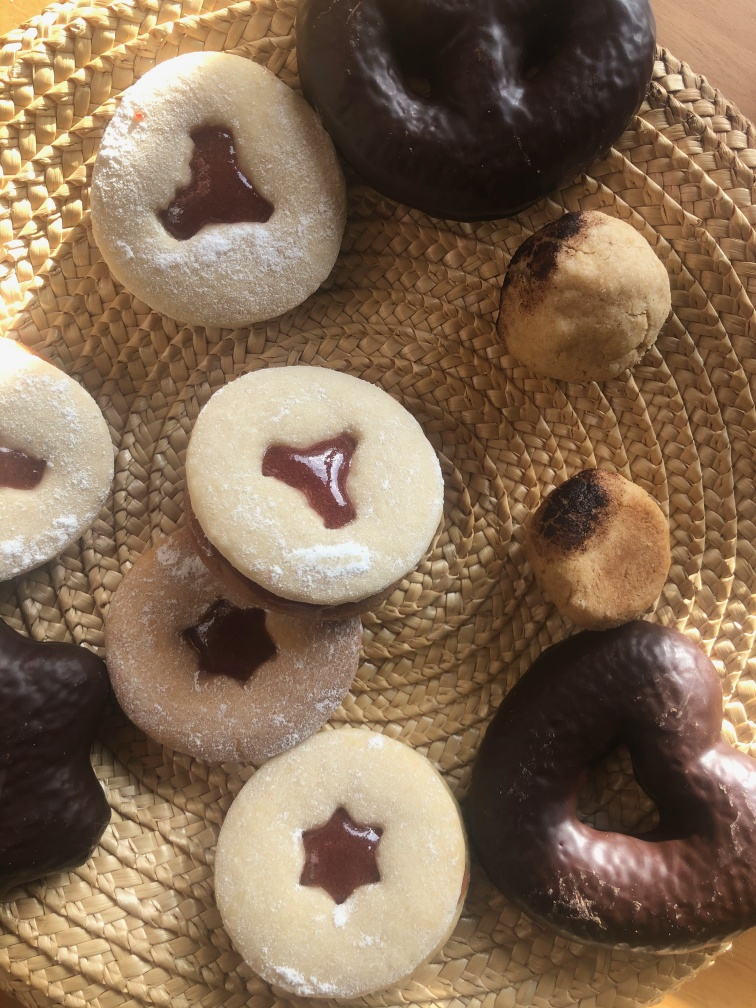bretzel: (294, 1, 663, 229)
christmas shortbread with jam: (86, 50, 350, 328), (214, 724, 474, 1005), (187, 350, 448, 601), (102, 528, 366, 762), (1, 332, 112, 582)
heart: (465, 623, 756, 949)
snowball: (497, 202, 681, 389), (529, 464, 676, 618)
